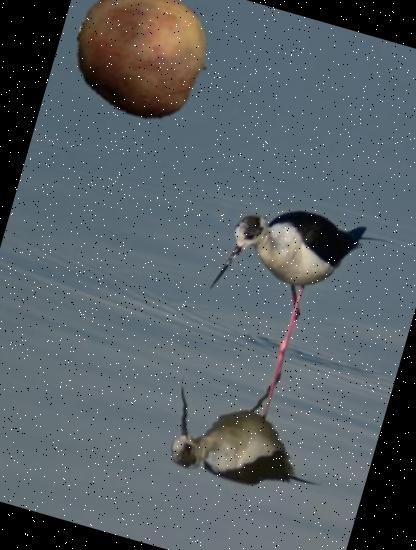Apple: (58, 0, 224, 136)
